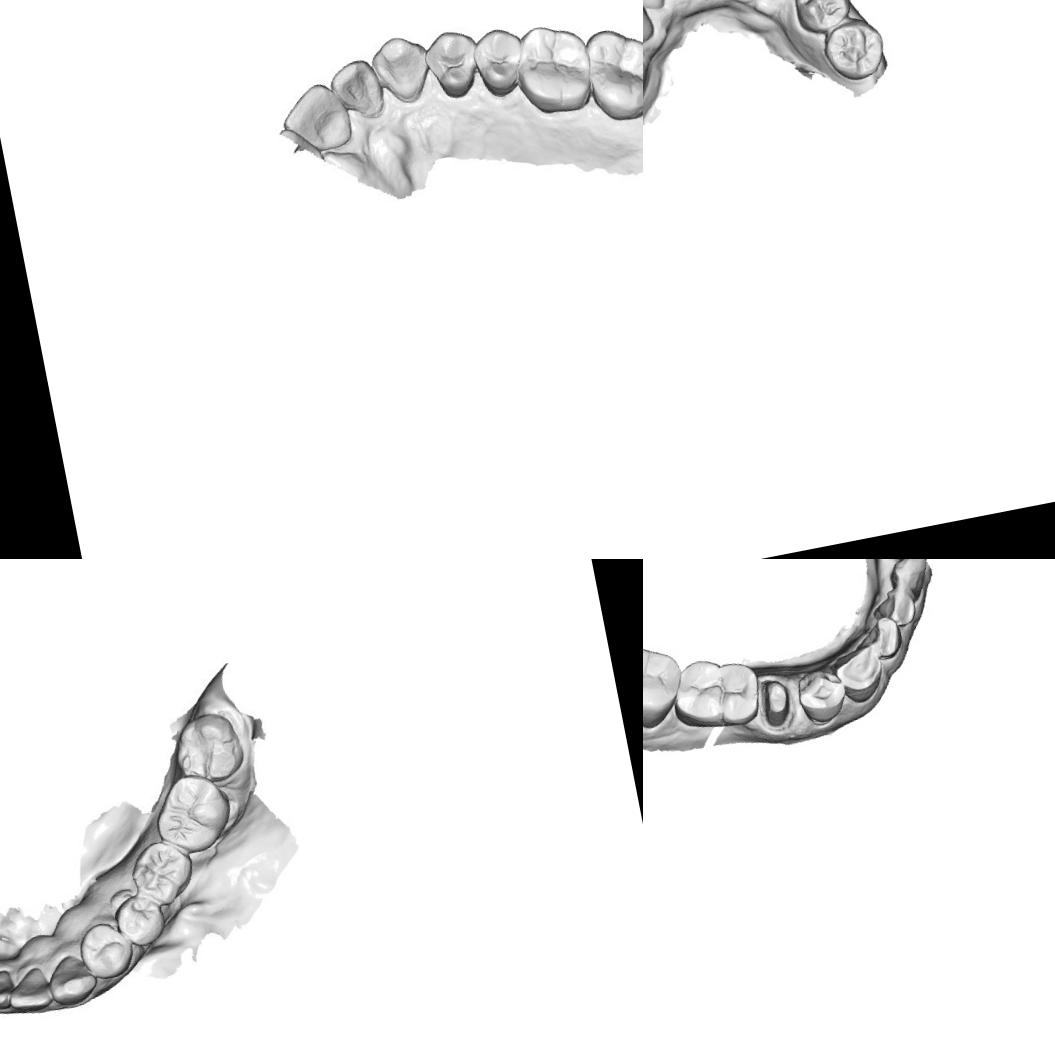canine: (363, 28, 436, 110), (824, 641, 888, 708), (43, 949, 101, 1009)
crown: (752, 672, 799, 734)
incisor: (280, 81, 350, 150), (330, 56, 389, 124), (854, 611, 904, 664), (3, 963, 54, 1014), (866, 584, 918, 632), (884, 559, 928, 600), (0, 966, 17, 1016)
molar: (507, 14, 599, 123), (664, 647, 765, 738), (145, 766, 238, 860), (574, 20, 643, 127), (166, 706, 250, 789), (123, 834, 200, 910), (643, 635, 691, 738)
premolar: (418, 24, 488, 102), (820, 14, 890, 86), (468, 21, 530, 102), (72, 916, 137, 984), (792, 662, 852, 728), (110, 890, 171, 951), (788, 0, 855, 37)
